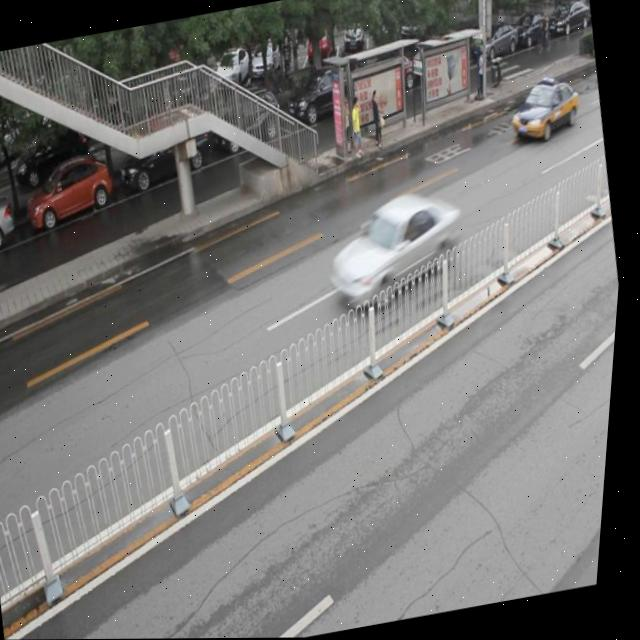car: (317, 185, 478, 318), (18, 151, 122, 235), (113, 114, 217, 192), (279, 60, 367, 131), (504, 73, 587, 147), (207, 86, 287, 157), (0, 189, 20, 255)
